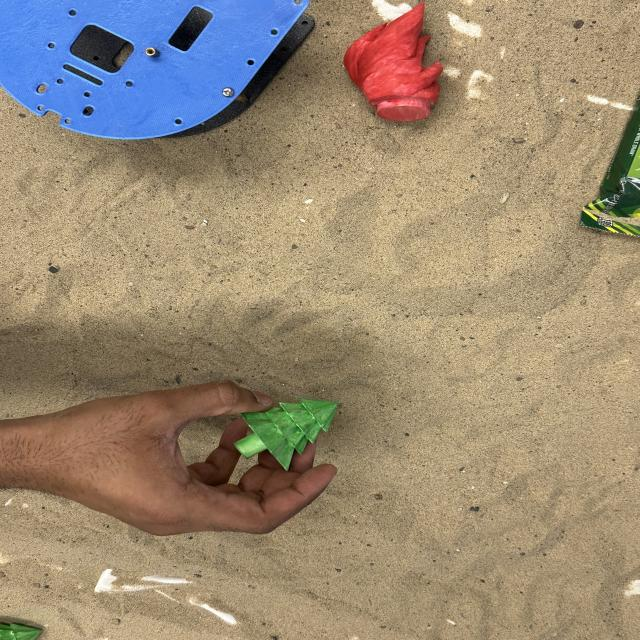fire: (342, 1, 444, 122)
tree: (233, 397, 339, 471)
